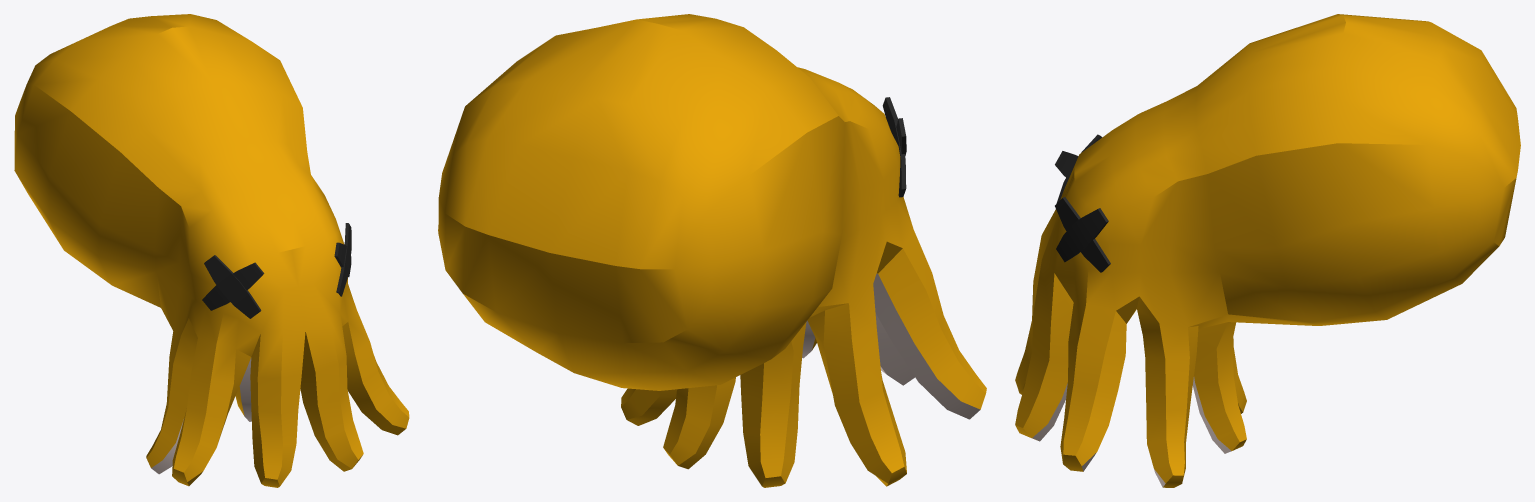
File: FoodIngredient_Octopus.fbx
3 views of the same model, side by side, from view 1: azimuth 30°, elevation 25°; view 2: azimuth 150°, elevation 25°; view 3: azimuth 270°, elevation 25° (orthographic). The views are drawn at different scales.
Parts seen in each view (by area): view 1: FoodIngredient_Octopus; view 2: FoodIngredient_Octopus; view 3: FoodIngredient_Octopus.
Boxes of the visible parts, x1,y1,x2,y2 form: FoodIngredient_Octopus: (14,14,409,487); FoodIngredient_Octopus: (438,14,986,487); FoodIngredient_Octopus: (1015,14,1520,487).
Bounding box in the file's own units: 106 × 154 × 170.
